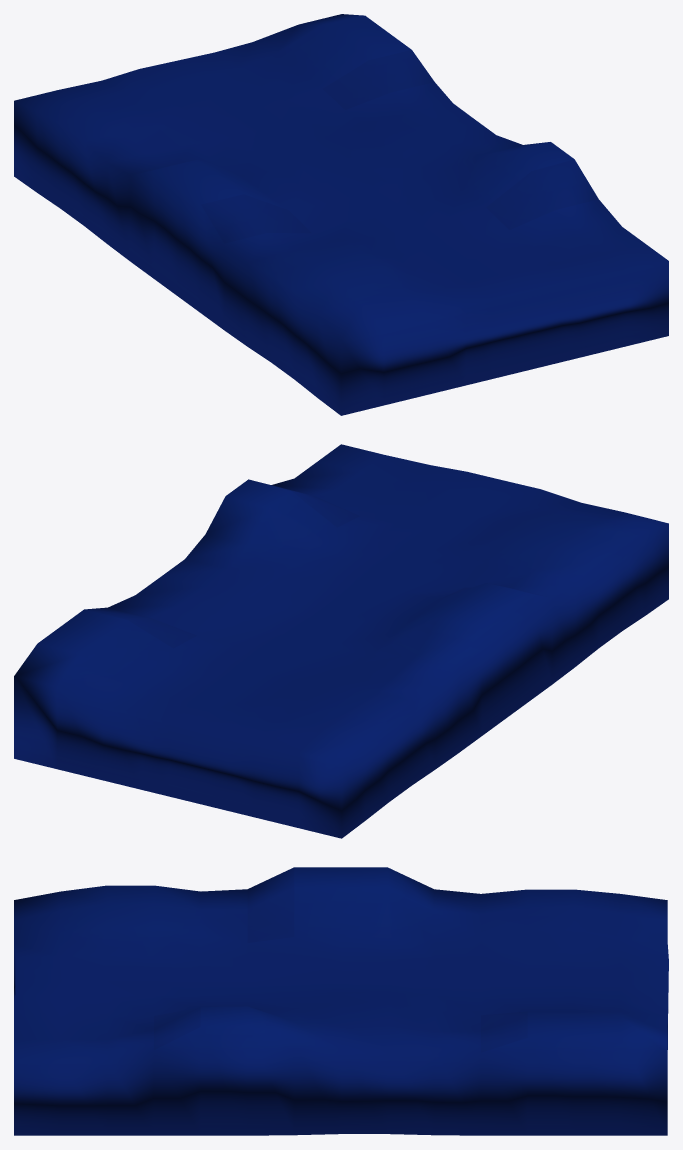
The model's file is Chemin1.fbx.
The picture shows the model from 3 angles, top to bottom: view 1: azimuth 30°, elevation 25°; view 2: azimuth 150°, elevation 25°; view 3: azimuth 270°, elevation 25°; orthographic projection.
Visible parts, largest first — view 1: Cube; view 2: Cube; view 3: Cube.
Part boxes in pixels (x1,y1,x2,y2): Cube: (14, 14, 668, 415); Cube: (14, 444, 668, 838); Cube: (14, 867, 668, 1135).
Bounding box in the file's own units: 342 × 109 × 593.
